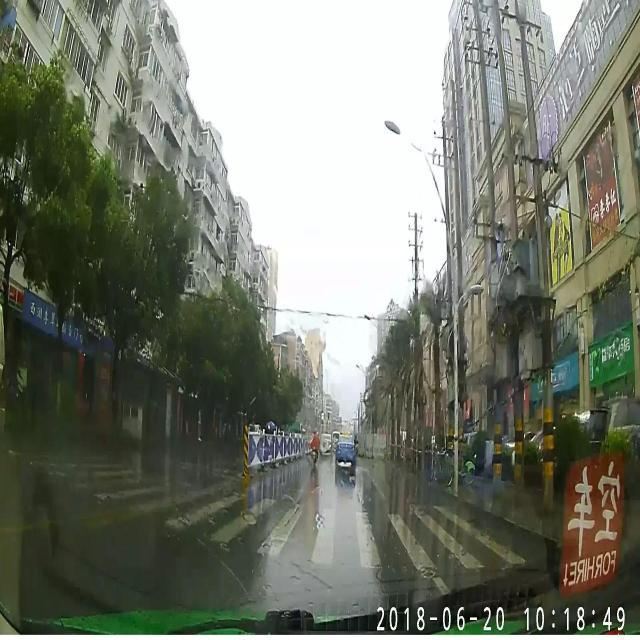car: (332, 433, 358, 468)
